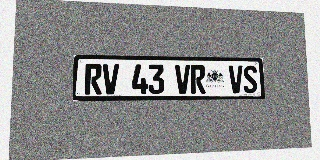3: (148, 64, 164, 94)
4: (132, 64, 148, 94)
R: (85, 64, 102, 95), (190, 65, 206, 94)
S: (243, 65, 258, 93)
V: (102, 64, 119, 94), (175, 65, 190, 94), (228, 65, 243, 93)
